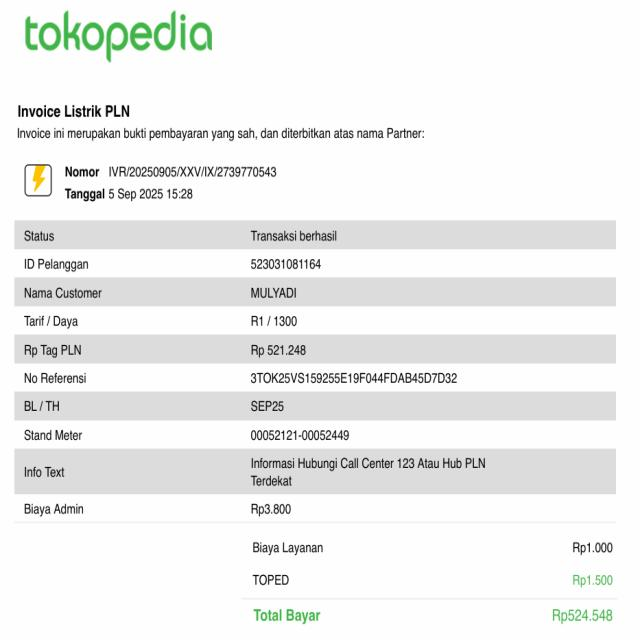date: (105, 183, 201, 204)
store: (20, 12, 219, 64), (12, 100, 132, 122)
total: (247, 602, 619, 628)
